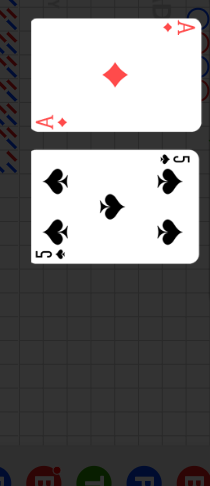5S: (34, 248, 67, 260)
AD: (160, 20, 196, 37)
